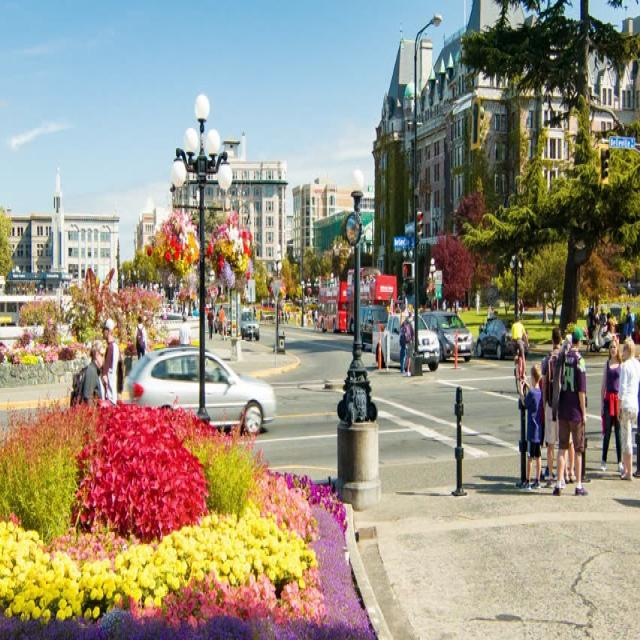body: (468, 438, 636, 494), (550, 324, 589, 497), (318, 266, 392, 334), (539, 325, 567, 491), (614, 333, 640, 484), (598, 335, 626, 473), (518, 363, 542, 492), (556, 331, 581, 440), (69, 338, 107, 406), (100, 314, 123, 406), (510, 314, 530, 382), (538, 355, 551, 448), (158, 290, 200, 318), (284, 293, 313, 327), (473, 290, 500, 326), (178, 312, 192, 376), (402, 310, 415, 378), (399, 314, 412, 374), (133, 313, 147, 360), (634, 379, 640, 480), (438, 292, 459, 320), (600, 311, 615, 344), (248, 301, 268, 323), (586, 305, 598, 340), (624, 304, 634, 341), (591, 303, 600, 341), (206, 306, 215, 342), (218, 304, 225, 341), (514, 295, 522, 321), (598, 304, 606, 328), (222, 312, 228, 341), (518, 296, 524, 320), (313, 307, 319, 329), (280, 308, 285, 325)
